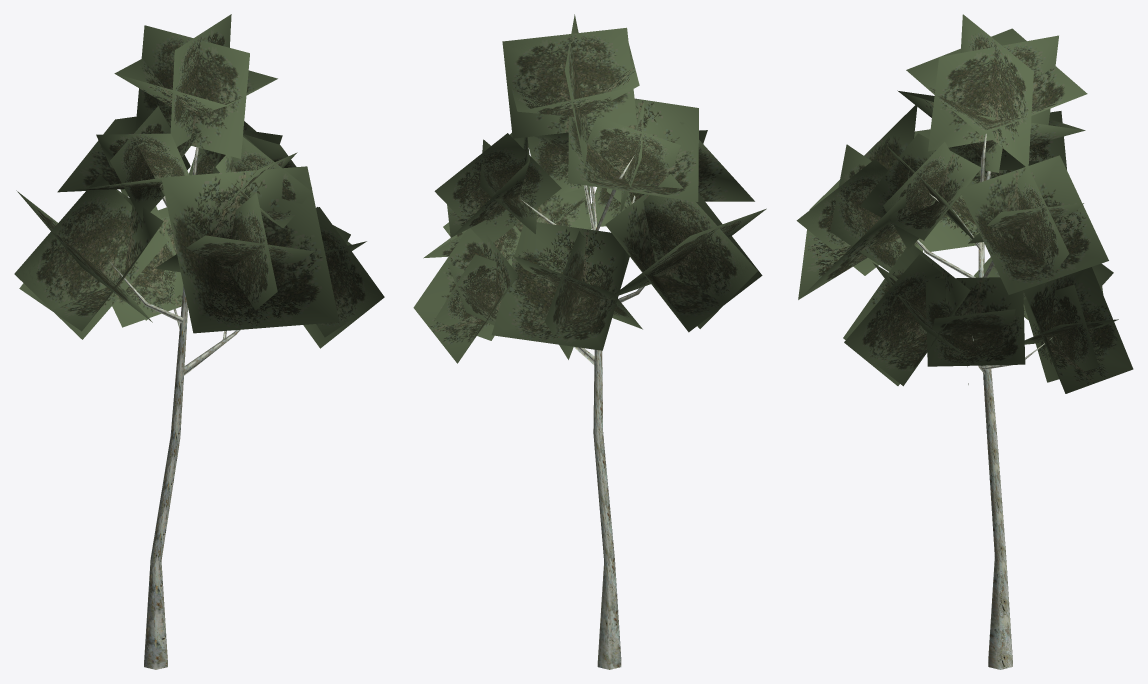
Rendered from ever_eucalyptus_short_l0.fbx.
3 renders of one model, left to right at view 1: azimuth 30°, elevation 25°; view 2: azimuth 150°, elevation 25°; view 3: azimuth 270°, elevation 25°, orthographic. The views are drawn at different scales.
Visible parts, largest first — view 1: mesh_node; view 2: mesh_node; view 3: mesh_node.
Part boxes in pixels (<box>): mesh_node: <box>14,14,384,669</box>; mesh_node: <box>413,14,766,669</box>; mesh_node: <box>796,14,1133,669</box>.
Bounding box in the file's own units: 10.61 × 19.32 × 9.07.
